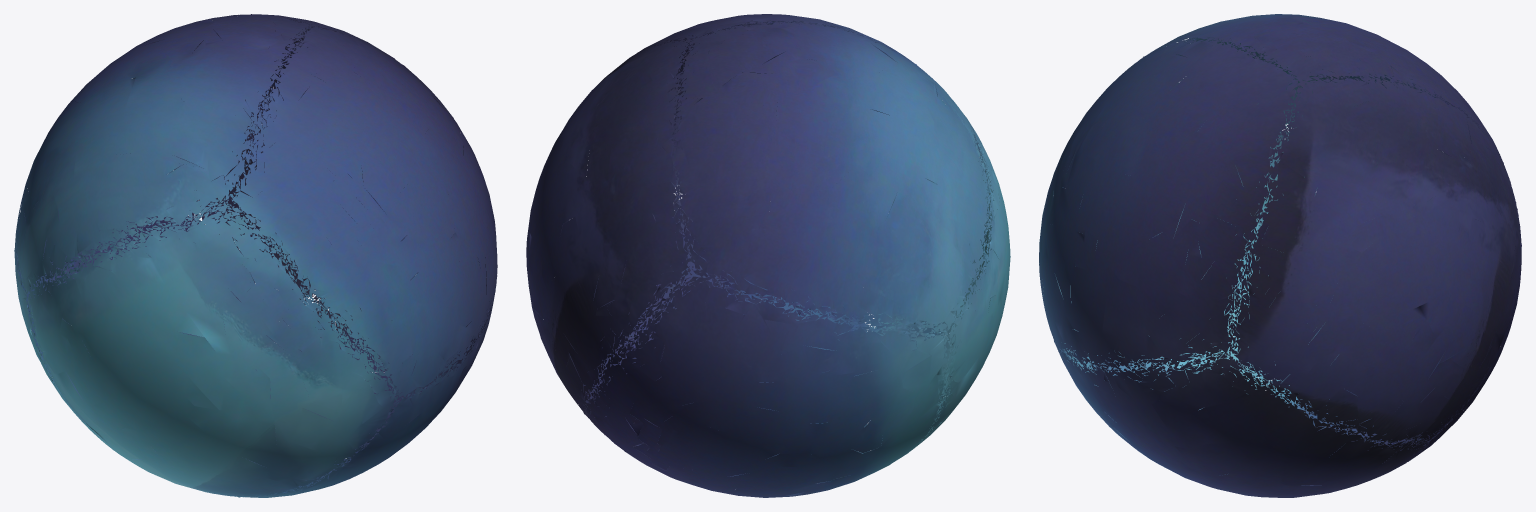
Rendered from Neptune.glb.
3 renders of one model, left to right at view 1: azimuth 30°, elevation 25°; view 2: azimuth 150°, elevation 25°; view 3: azimuth 270°, elevation 25°, orthographic.
Visible parts, largest first — view 1: Mesh_0.009; view 2: Mesh_0.009; view 3: Mesh_0.009.
Boxes of the visible parts, bbox=[...] form: Mesh_0.009: bbox=[14, 14, 497, 497]; Mesh_0.009: bbox=[526, 14, 1010, 497]; Mesh_0.009: bbox=[1039, 14, 1521, 497].
Size of the model in its own units: 2 by 2.01 by 2.
1 material, 1 textured.
